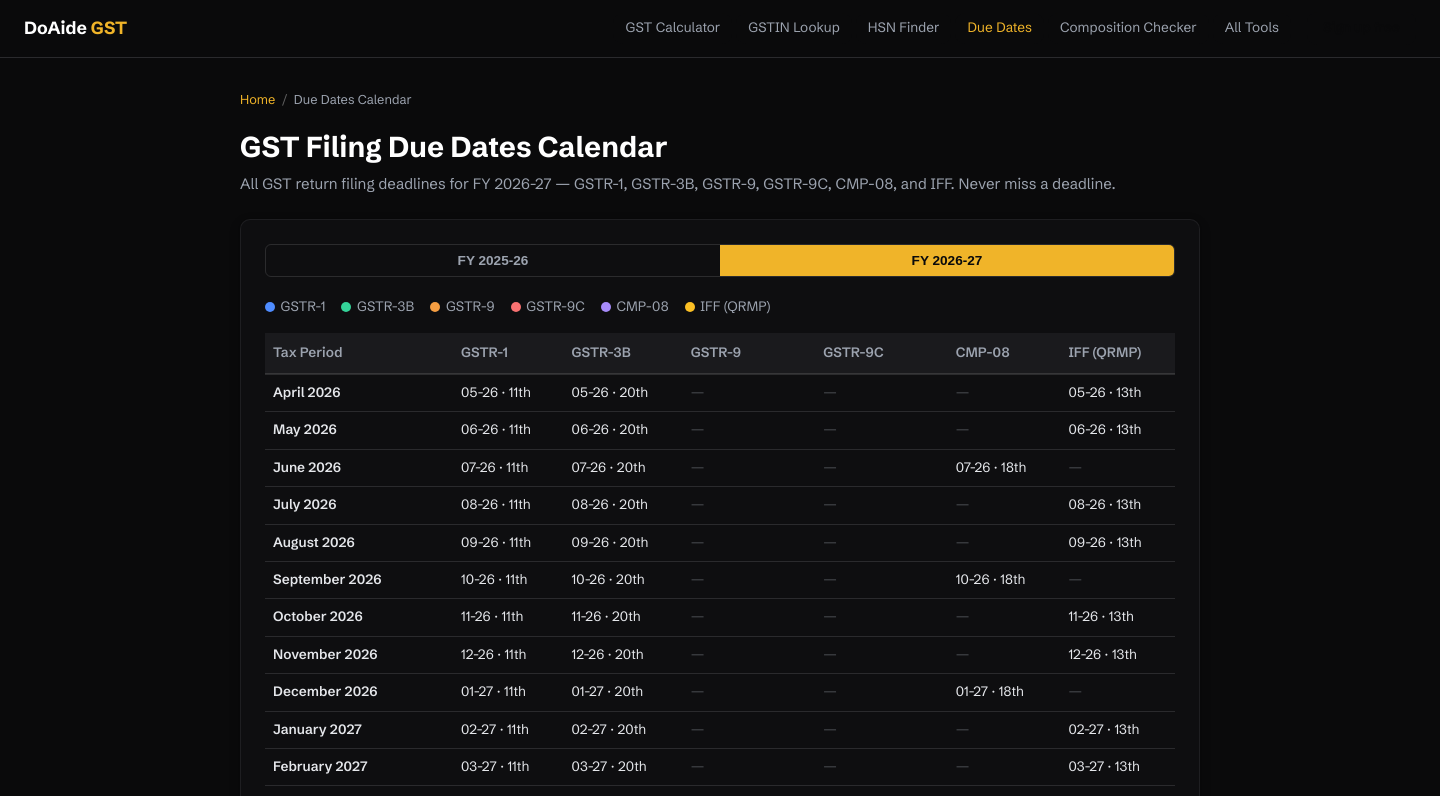
it: DueDatesPage › switches to FY 2025-26 when clicked
Click the button "FY 2025-26" at (493, 260), box [266,245,720,276]
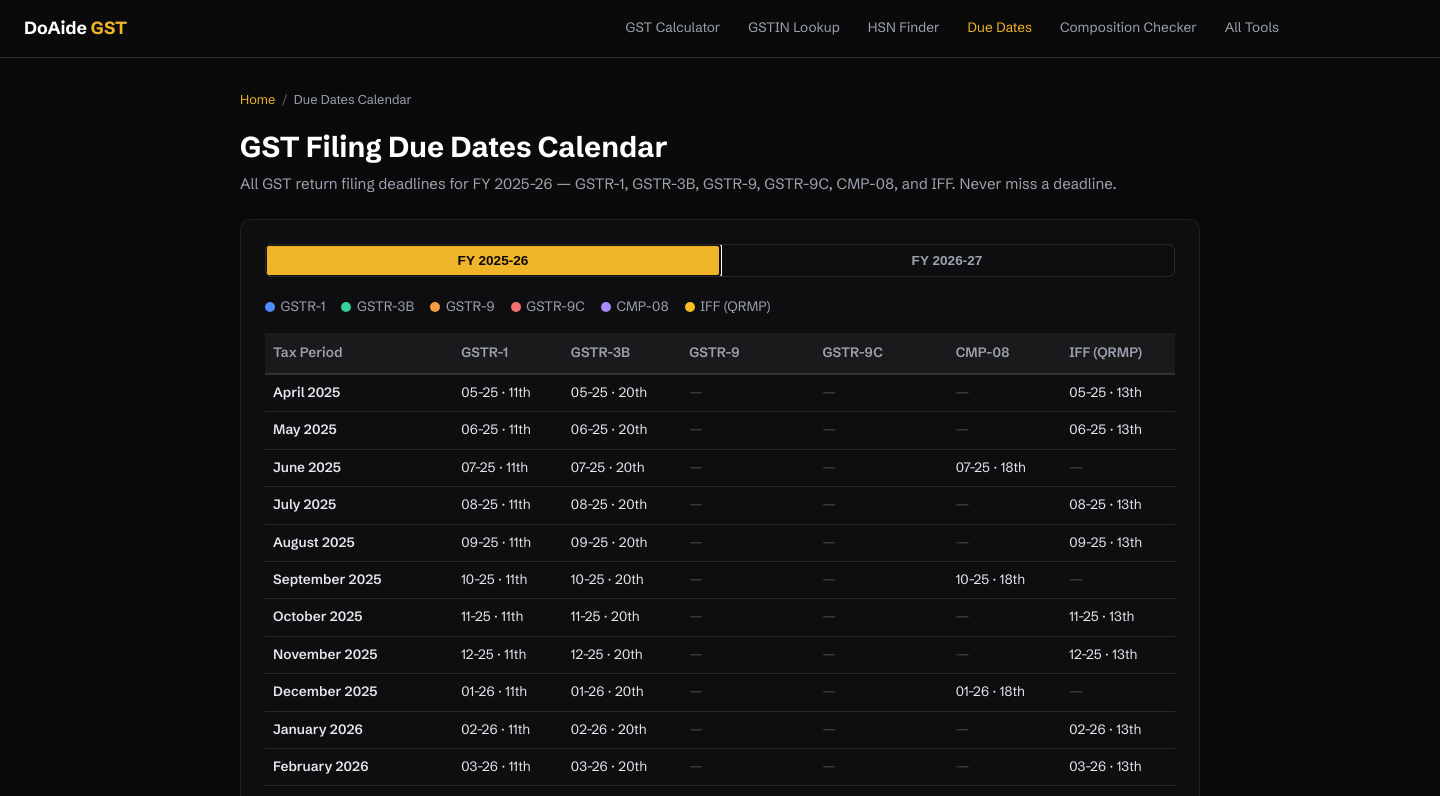
Check: the text "April 2025" is shown, box [265,374,453,412]
